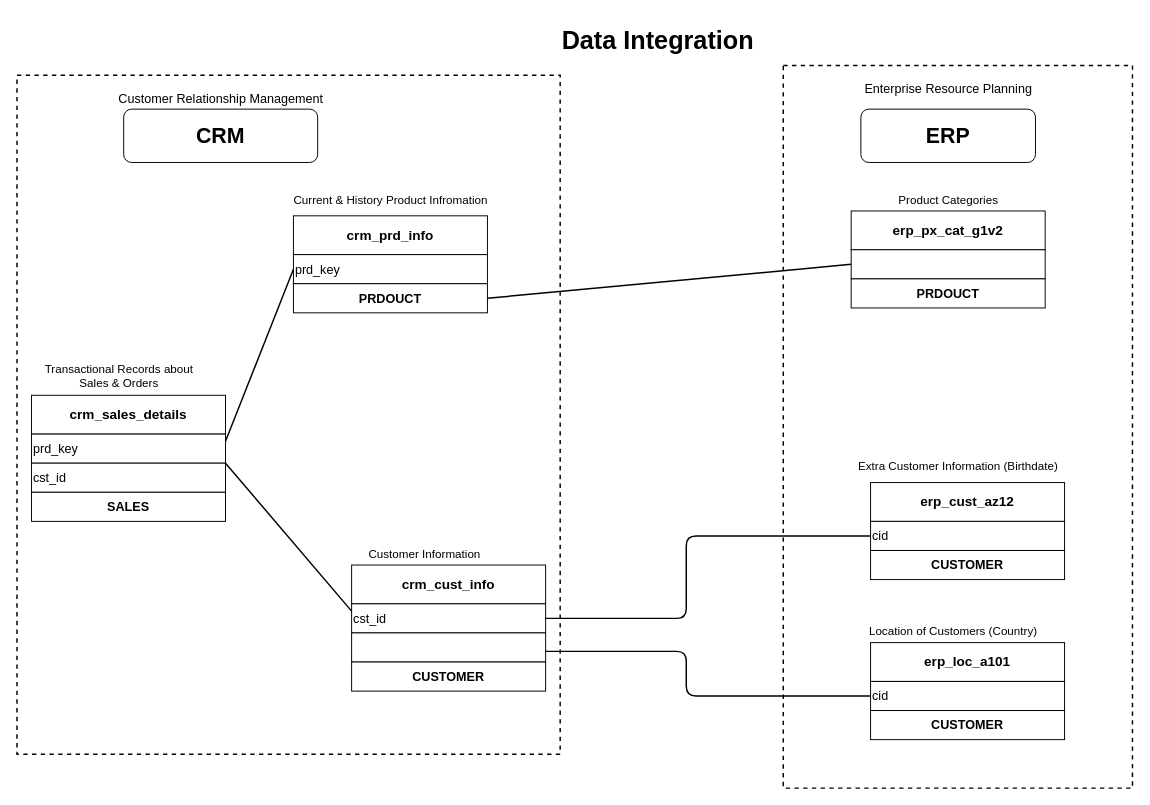
The diagram is 1150 pixels wide and 805 high, and some of its shapes have lost their labels. Here are the shapes that lost their labels. From the top down, the centre of each, then its label:
At point 947,264: "id".
At point 448,647: "cst_key".
